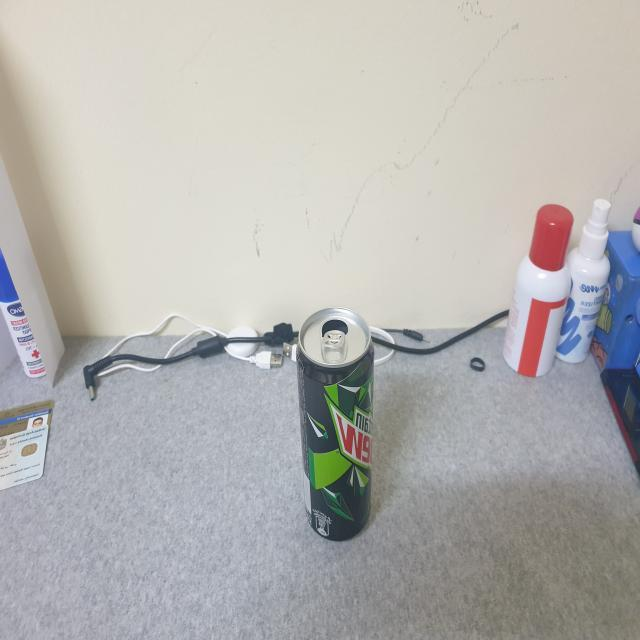can: (292, 304, 380, 542)
